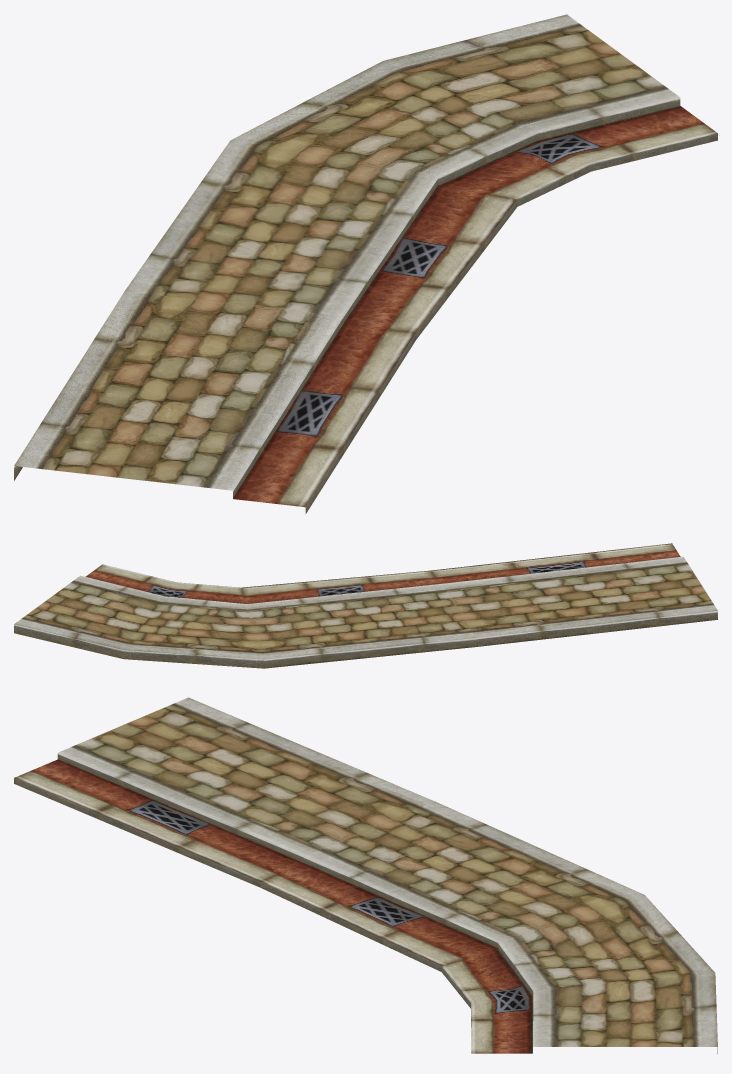
The model's file is obj_masabkrouinle01.glb.
The picture shows the model from 3 angles, top to bottom: view 1: azimuth 30°, elevation 25°; view 2: azimuth 150°, elevation 25°; view 3: azimuth 270°, elevation 25°; orthographic projection. The views are drawn at different scales.
Parts seen in each view (by area): view 1: part_0; view 2: part_0; view 3: part_0.
Part boxes in pixels (x1=…): part_0: x1=14, y1=14, x2=717, y2=513; part_0: x1=14, y1=543, x2=717, y2=668; part_0: x1=14, y1=697, x2=717, y2=1054.
Bounding box in the file's own units: 13.41 × 0.2309 × 11.42.
1 material, 1 textured.
